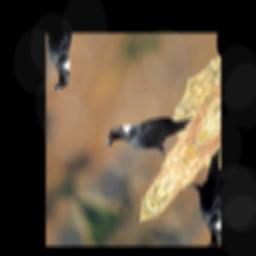Crow: (101, 74, 197, 189)
